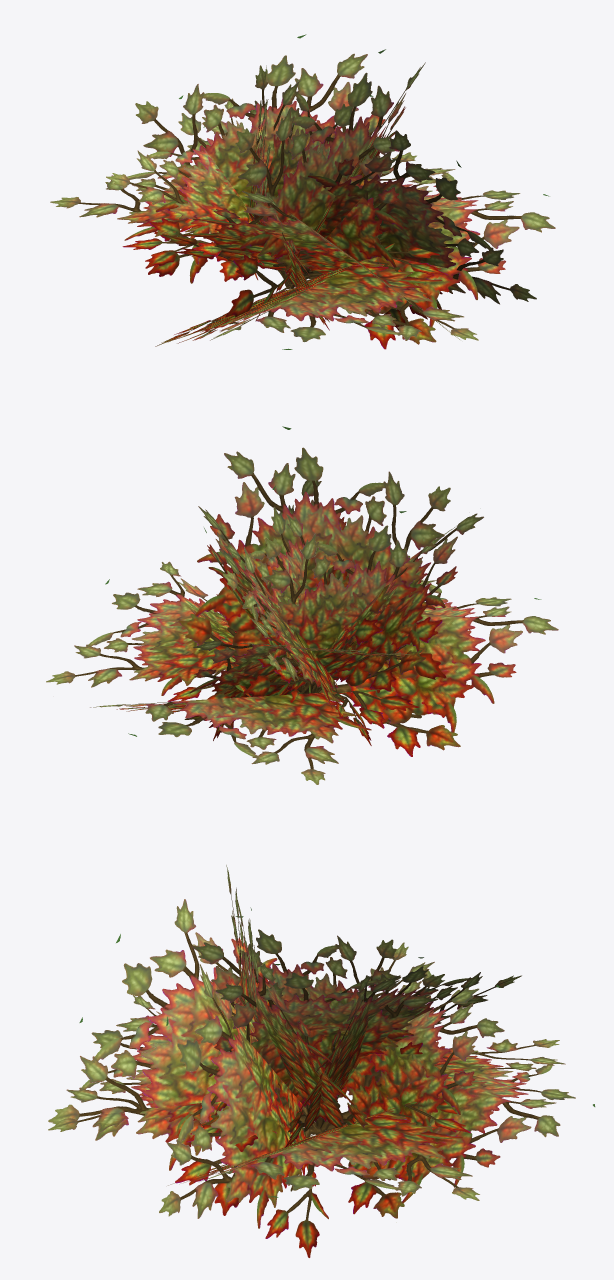
Rendered from bushD.fbx.
3 renders of one model, top to bottom at view 1: azimuth 30°, elevation 25°; view 2: azimuth 150°, elevation 25°; view 3: azimuth 270°, elevation 25°, orthographic. The views are drawn at different scales.
Parts seen in each view (by area): view 1: bushD; view 2: bushD; view 3: bushD.
Part boxes in pixels (x1,y1,x2,y2): bushD: (50,34,555,349); bushD: (46,426,558,784); bushD: (48,865,595,1257).
Bounding box in the file's own units: 467 × 344 × 527.
Materials: 1 (1 with a texture image).
